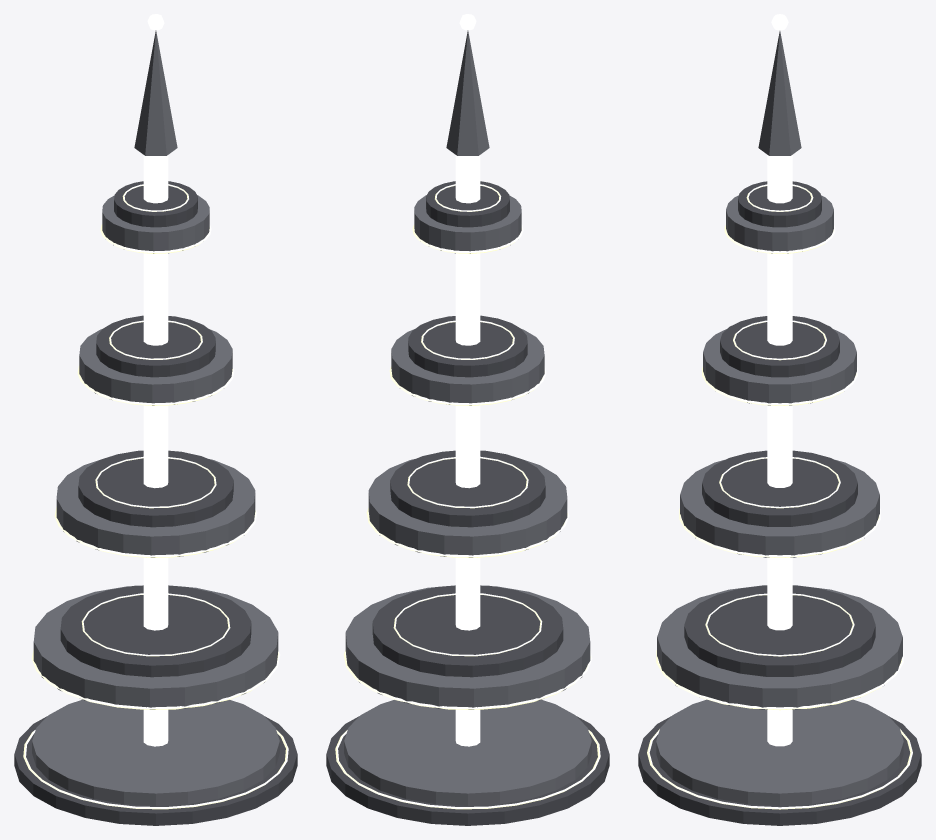
The model's file is zone_high_2.glb.
3 views of the same model, side by side, from view 1: azimuth 30°, elevation 25°; view 2: azimuth 150°, elevation 25°; view 3: azimuth 270°, elevation 25° (orthographic).
Parts seen in each view (by area): view 1: zone_high_2, detail; view 2: zone_high_2, detail; view 3: zone_high_2, detail.
Boxes of the visible parts, x1,y1,x2,y2 form: zone_high_2: (14,14,297,825); detail: (81,184,230,656); zone_high_2: (326,14,609,825); detail: (393,184,542,656); zone_high_2: (638,14,921,825); detail: (705,184,854,656).
Size of the model in its own units: 28.8 by 84.42 by 28.8.
